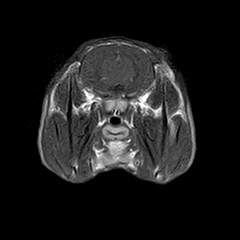Brain: (68, 13, 167, 111)
